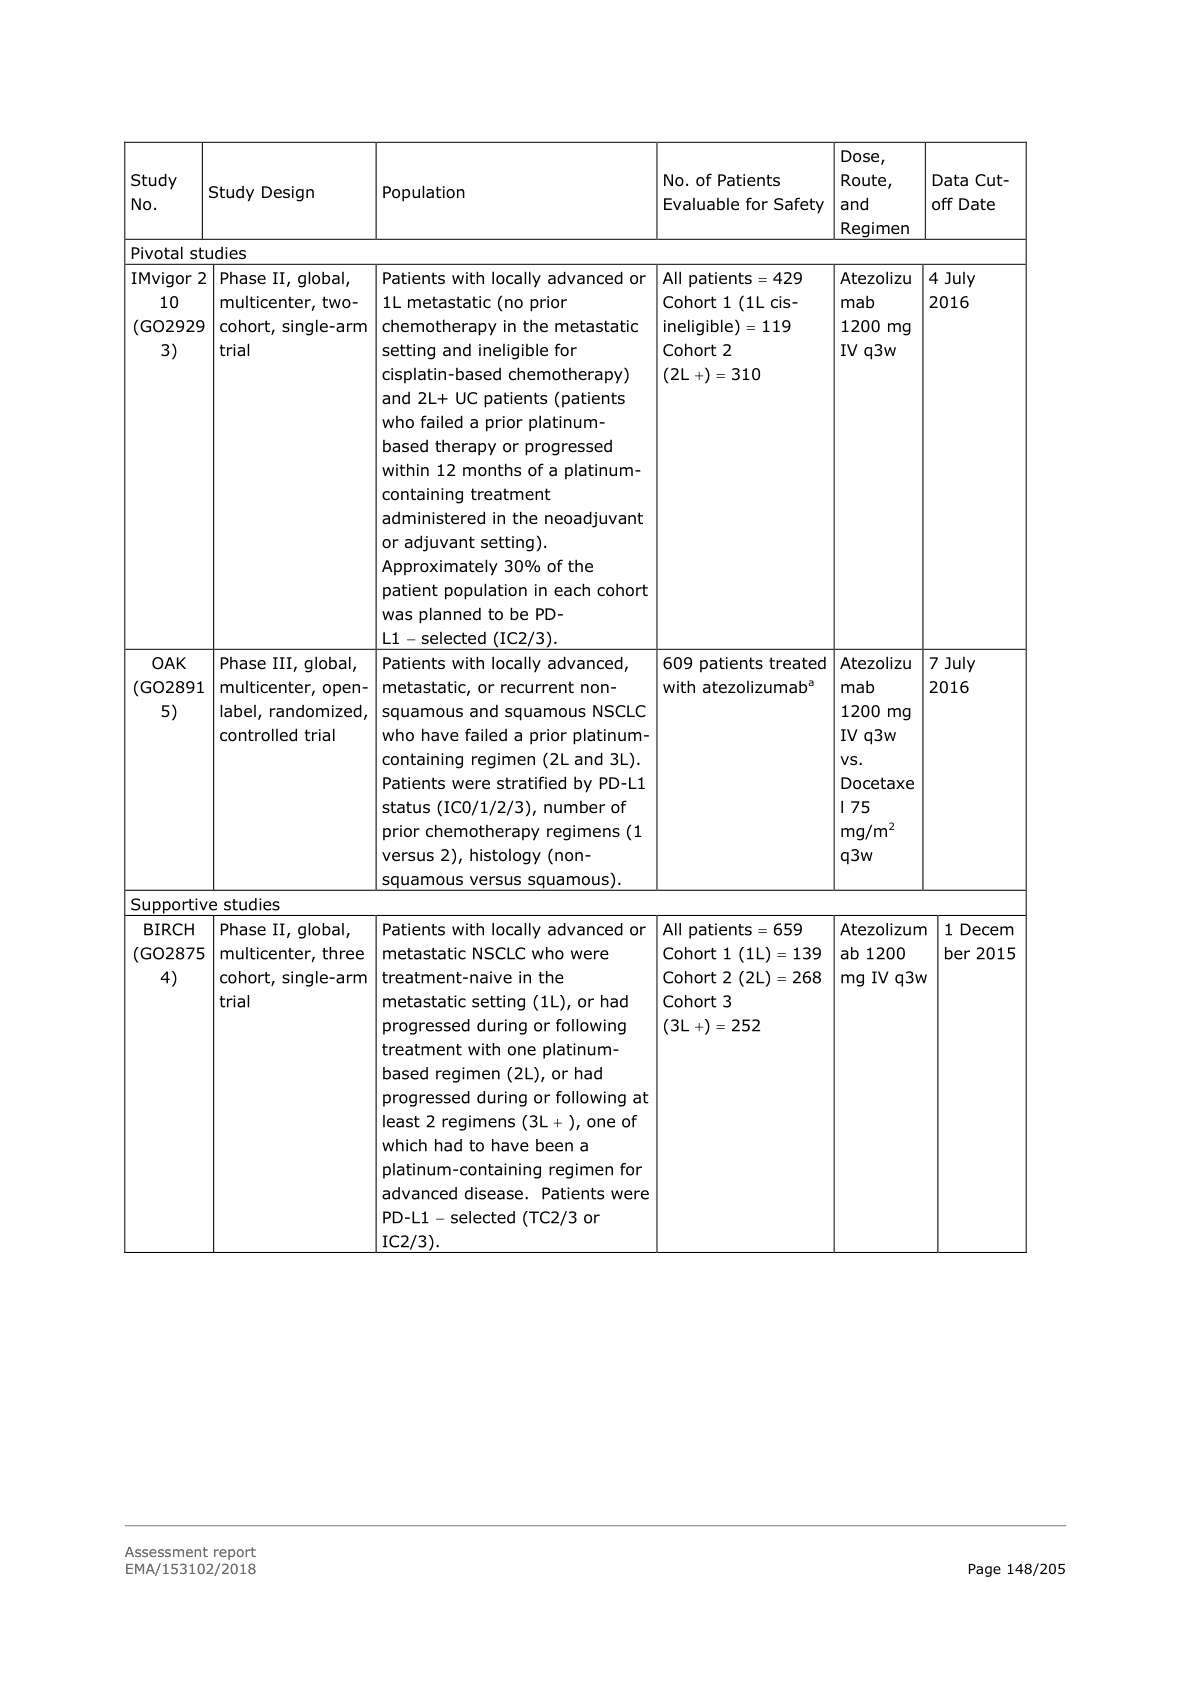merged_cells: (122, 140, 1027, 1254)
